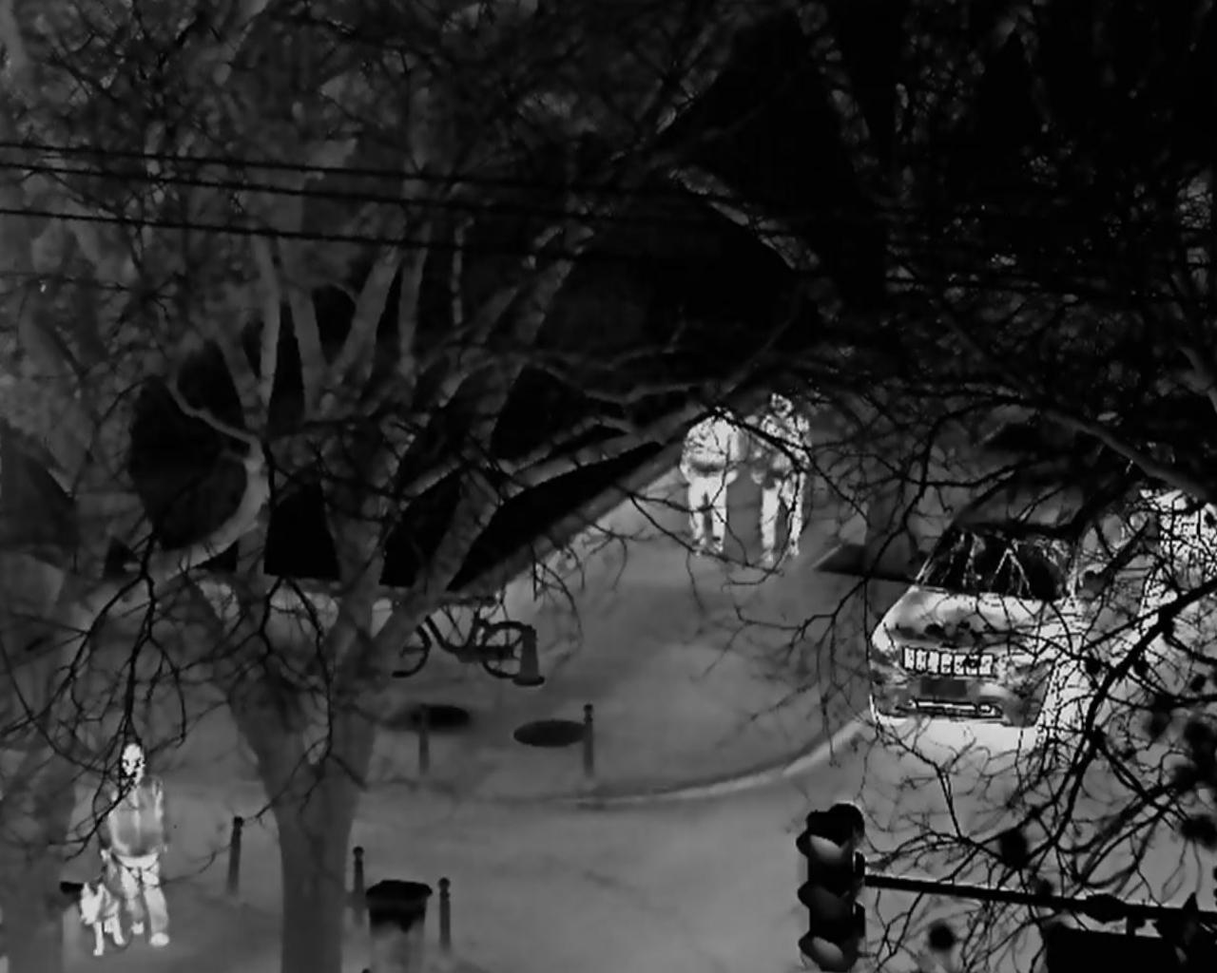person: (96, 741, 170, 948), (748, 397, 810, 568), (681, 417, 737, 557)
